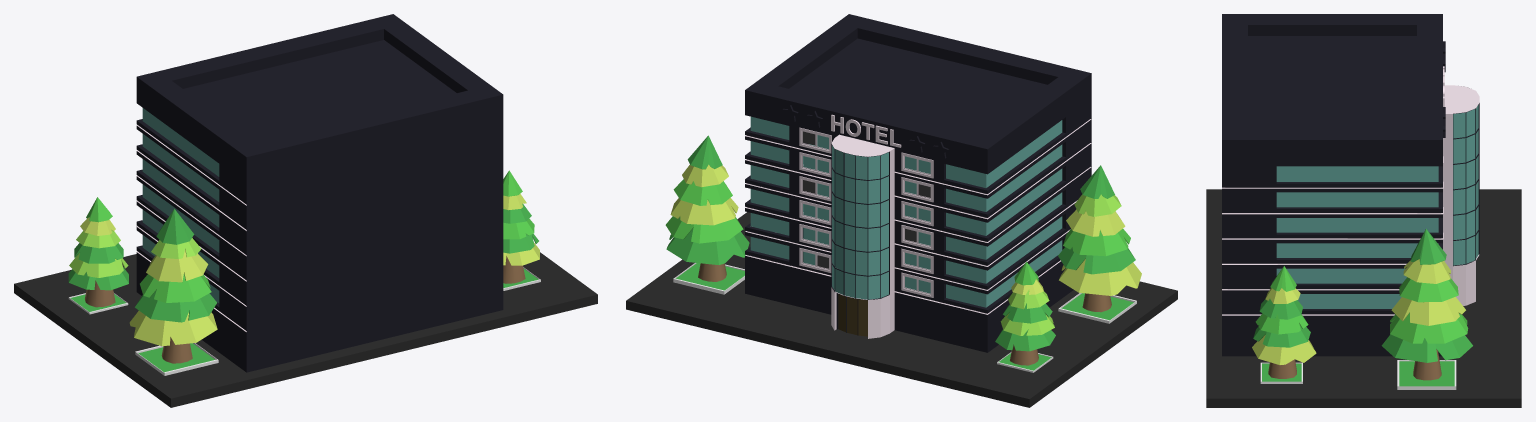
The model's file is hotel (1).fbx.
The picture shows the model from 3 angles, left to right: view 1: azimuth 30°, elevation 25°; view 2: azimuth 150°, elevation 25°; view 3: azimuth 270°, elevation 25°; orthographic projection. The views are drawn at different scales.
Parts seen in each view (by area): view 1: hotel; view 2: hotel; view 3: hotel.
Boxes of the visible parts, x1,y1,x2,y2 form: hotel: (14,14,597,407); hotel: (626,14,1177,407); hotel: (1206,14,1521,407).
Bounding box in the file's own units: 1042 × 524 × 663.
